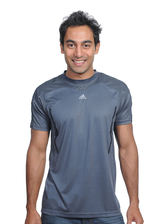clothoes: (20, 73, 145, 214)
